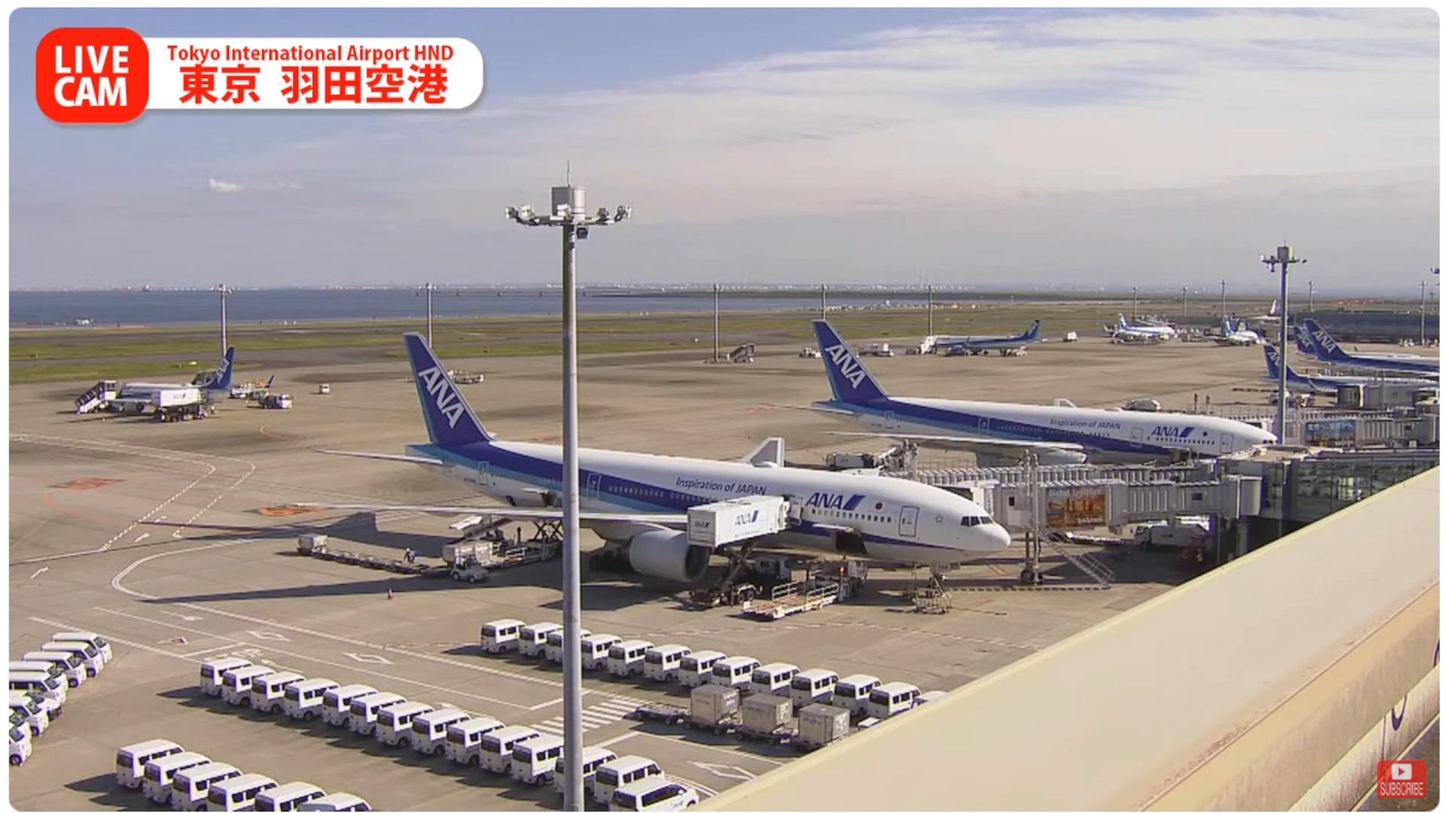Aerobridge: (956, 480, 1243, 535), (885, 461, 1213, 481)
Airplane: (290, 330, 1014, 584)
Dolly: (295, 535, 435, 571)
JCPL: (480, 505, 581, 579), (763, 559, 861, 625)
Skyloader: (443, 507, 530, 562)
Tractor: (454, 541, 498, 570)
Window: (1270, 448, 1442, 536)
